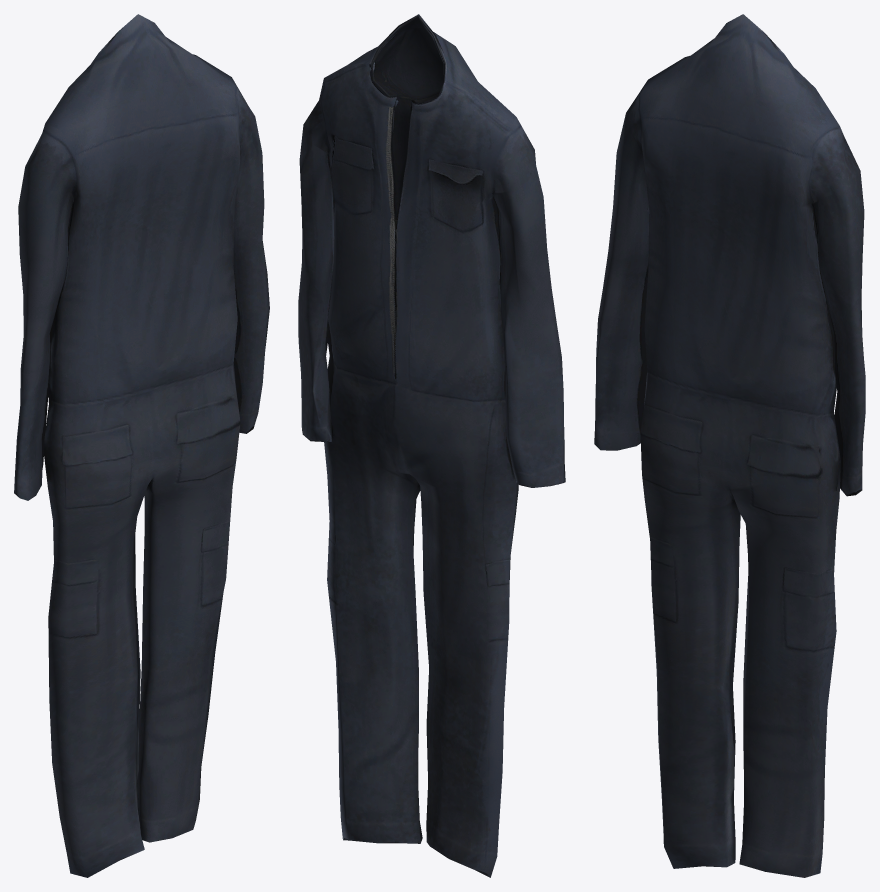
The model's file is clothing_hanging_overall.dae.
3 views of the same model, side by side, from view 1: azimuth 30°, elevation 25°; view 2: azimuth 150°, elevation 25°; view 3: azimuth 330°, elevation 25° (orthographic). The views are drawn at different scales.
Parts seen in each view (by area): view 1: Overall_LP2_polySurface1; view 2: Overall_LP2_polySurface1; view 3: Overall_LP2_polySurface1.
Part boxes in pixels (x1=…): Overall_LP2_polySurface1: x1=14, y1=14, x2=269, y2=877; Overall_LP2_polySurface1: x1=298, y1=14, x2=565, y2=877; Overall_LP2_polySurface1: x1=594, y1=14, x2=865, y2=877.
Size of the model in its own units: 0.7146 by 2.22 by 0.2069.
